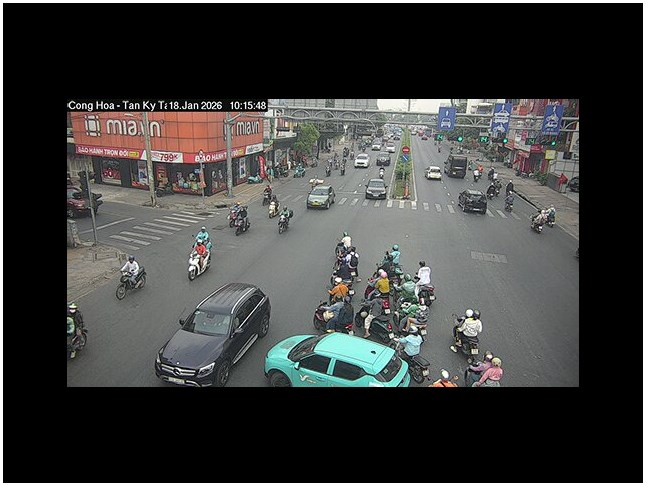car: (154, 280, 272, 386), (262, 329, 414, 385), (457, 189, 487, 215), (306, 185, 336, 210), (365, 179, 388, 199), (424, 166, 442, 180), (354, 154, 369, 168)
motorbike: (116, 258, 147, 300), (67, 301, 88, 360), (187, 242, 211, 280), (230, 203, 251, 235), (232, 214, 251, 236)
